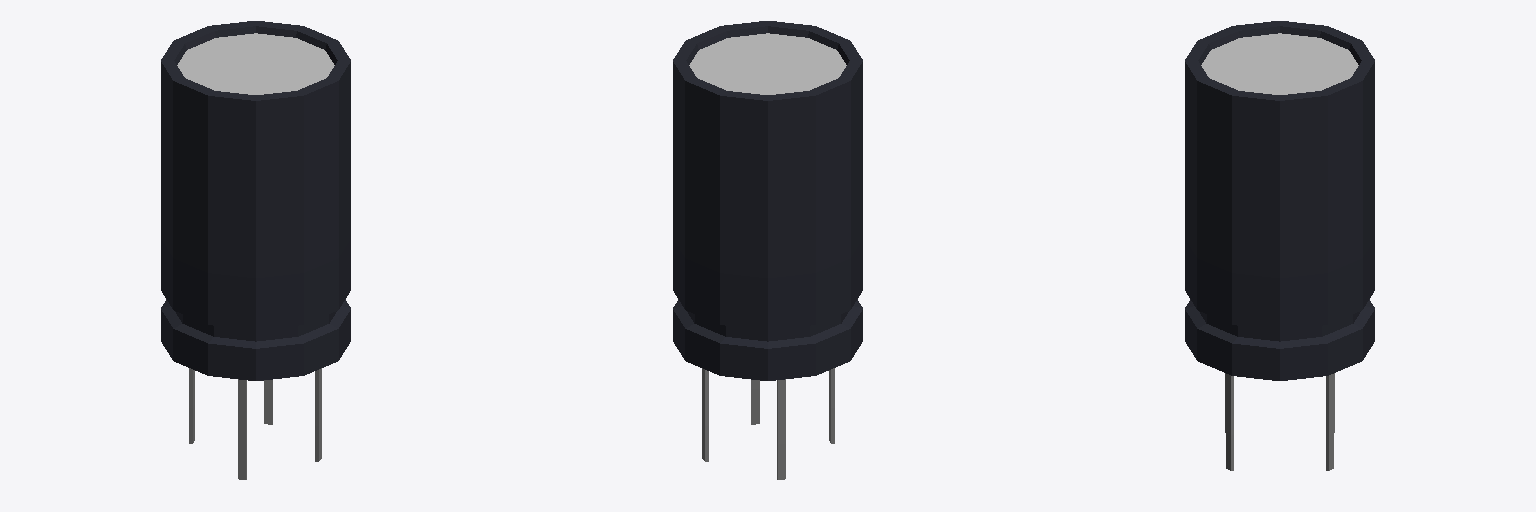
3 views of the same model, side by side, from view 1: azimuth 30°, elevation 25°; view 2: azimuth 150°, elevation 25°; view 3: azimuth 270°, elevation 25° (orthographic).
Parts seen in each view (by area): view 1: Semiconductor_Components; view 2: Semiconductor_Components; view 3: Semiconductor_Components.
Part boxes in pixels (left/top/right/bottom): Semiconductor_Components: left=161, top=21, right=350, bottom=479; Semiconductor_Components: left=673, top=21, right=862, bottom=479; Semiconductor_Components: left=1185, top=21, right=1374, bottom=470.
Size of the model in its own units: 0.3397 by 0.7673 by 0.3397.
1 materials, 1 textured.